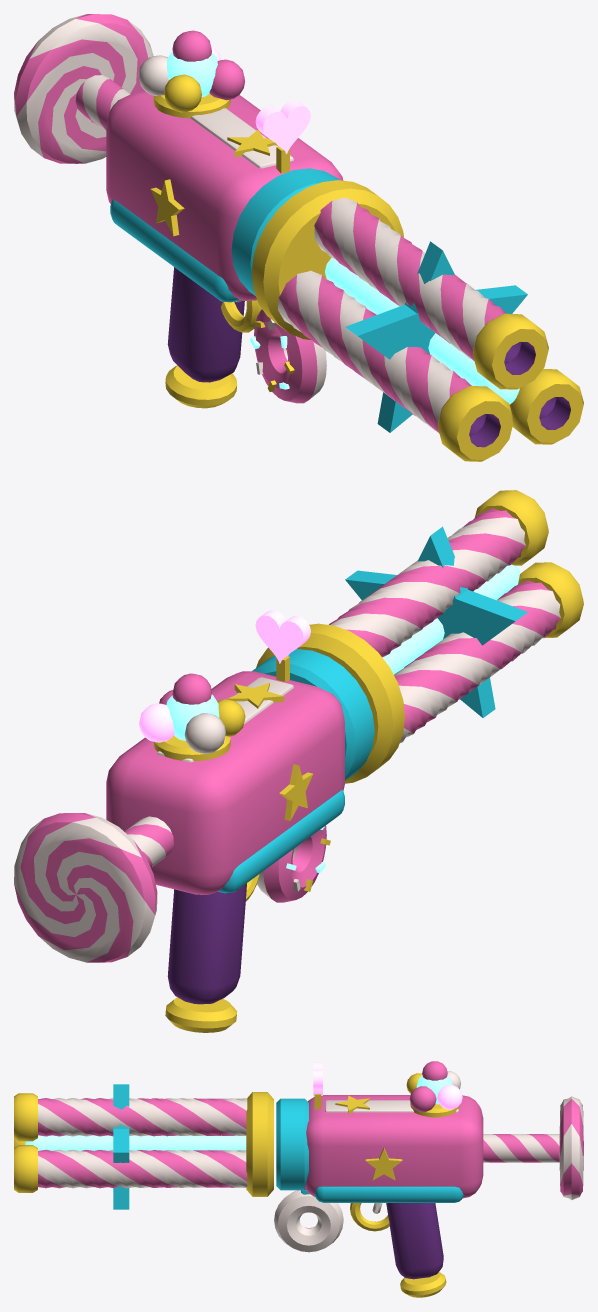
The model's file is candy-neon-wildspark-set.glb.
3 renders of one model, top to bottom at view 1: azimuth 30°, elevation 25°; view 2: azimuth 150°, elevation 25°; view 3: azimuth 270°, elevation 25°, orthographic. The views are drawn at different scales.
Parts seen in each view (by area): view 1: WildsparkRepeaterReceiver, WildsparkRotor; view 2: WildsparkRepeaterReceiver, WildsparkRotor; view 3: WildsparkRepeaterReceiver, WildsparkRotor.
Boxes of the visible parts, bbox=[...] form: WildsparkRepeaterReceiver: bbox=[14, 14, 343, 408]; WildsparkRotor: bbox=[251, 180, 583, 461]; WildsparkRepeaterReceiver: bbox=[14, 610, 374, 1032]; WildsparkRotor: bbox=[256, 490, 583, 783]; WildsparkRepeaterReceiver: bbox=[274, 1061, 583, 1297]; WildsparkRotor: bbox=[14, 1084, 273, 1209].
Size of what is drawn, in the model's own units: 0.2359 by 0.4723 by 1.06.
